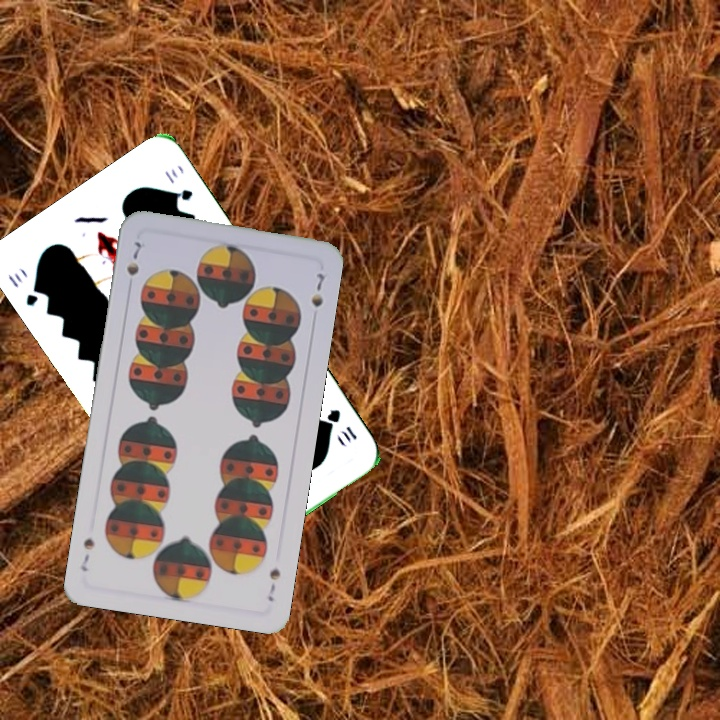G10: (3, 268, 46, 309), (322, 405, 360, 446)
S7: (122, 237, 144, 278), (263, 563, 283, 604)
